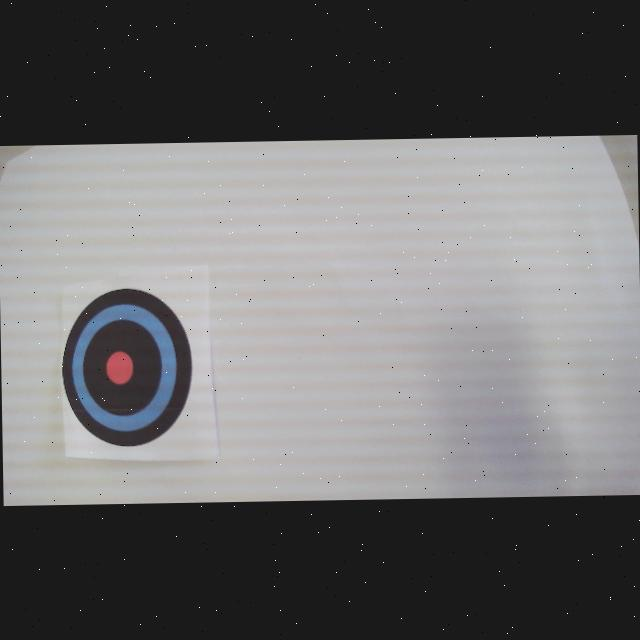COGNITIVE: (60, 286, 196, 450)
